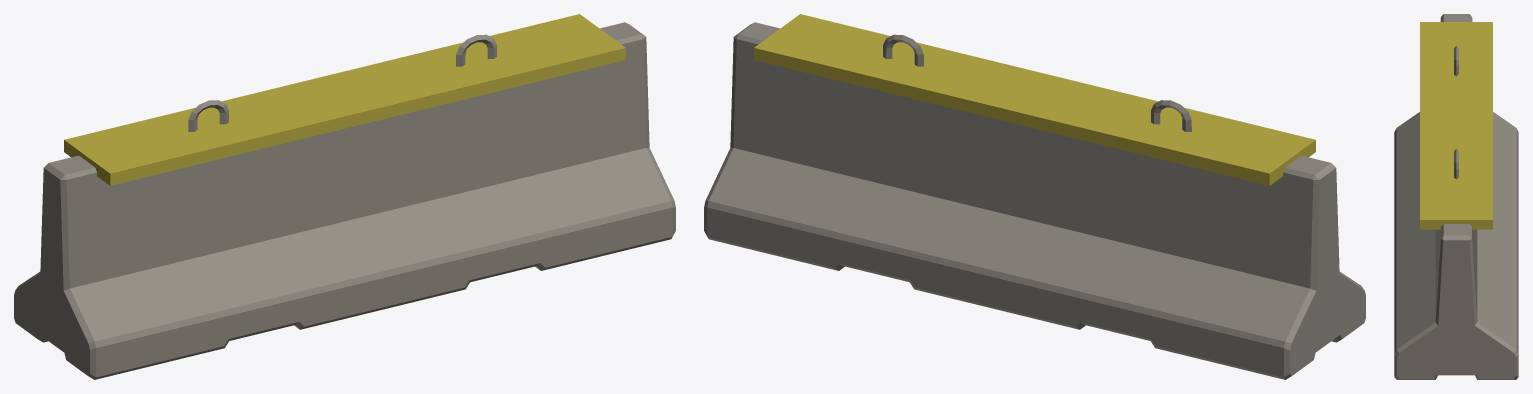
File: barrier.glb
3 views of the same model, side by side, from view 1: azimuth 30°, elevation 25°; view 2: azimuth 150°, elevation 25°; view 3: azimuth 270°, elevation 25° (orthographic). The views are drawn at different scales.
Visible parts, largest first — view 1: lod0; view 2: lod0; view 3: lod0.
Part boxes in pixels (box(x1,y1,x2,y2)): lod0: box(14, 14, 675, 379); lod0: box(704, 14, 1365, 379); lod0: box(1394, 14, 1518, 379).
Size of what is drawn, in the model's own units: 3 by 1.05 by 0.7.
